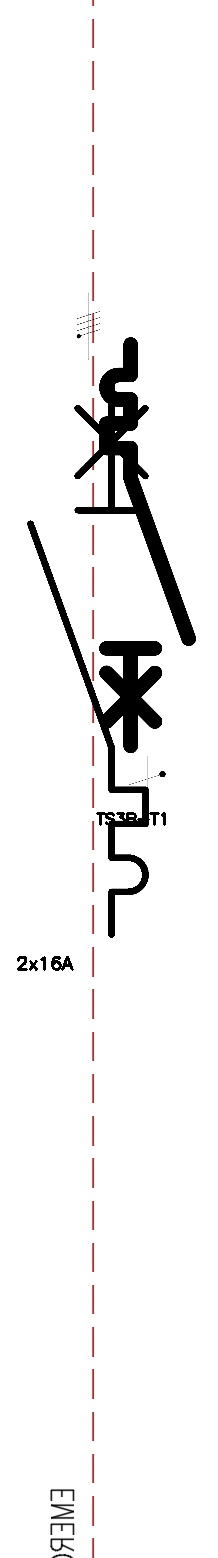interruptor_termomagnetico: (16, 359, 160, 949), (96, 334, 199, 756)
